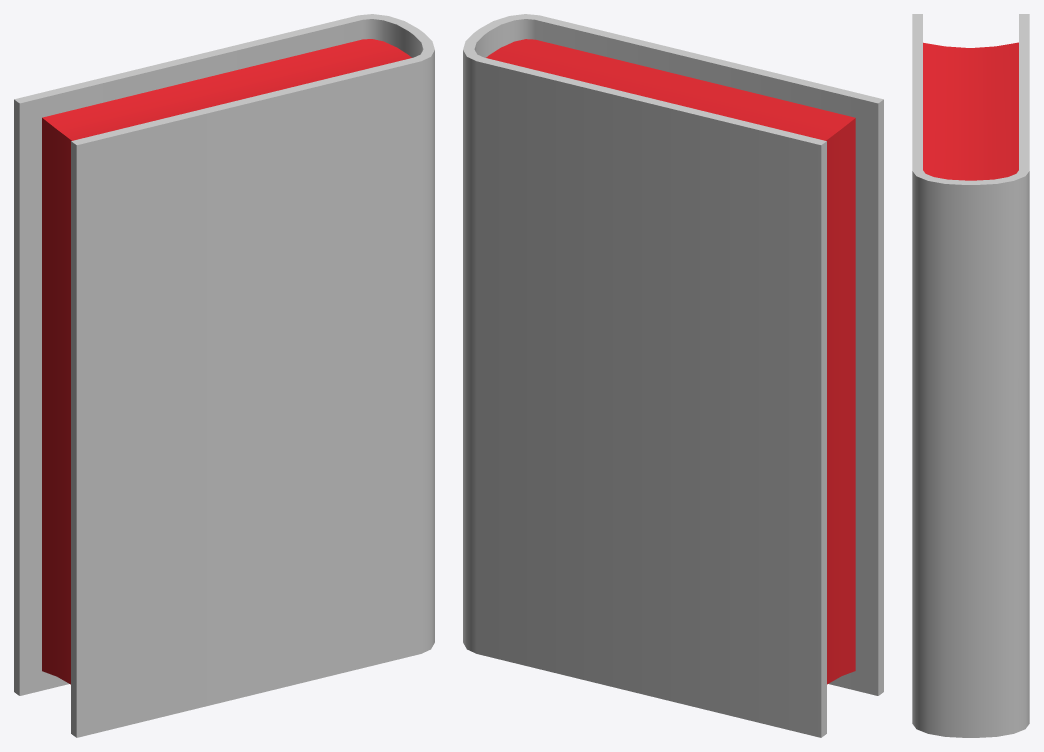
The model's file is book03.fbx.
3 views of the same model, side by side, from view 1: azimuth 30°, elevation 25°; view 2: azimuth 150°, elevation 25°; view 3: azimuth 270°, elevation 25° (orthographic). The views are drawn at different scales.
Parts seen in each view (by area): view 1: Plane.001; view 2: Plane.001; view 3: Plane.001.
Part boxes in pixels (x1,y1,x2,y2): Plane.001: [14, 14, 434, 737]; Plane.001: [463, 14, 883, 737]; Plane.001: [912, 14, 1029, 737].
Size of the model in its own units: 1.38 by 2.08 by 0.399.
